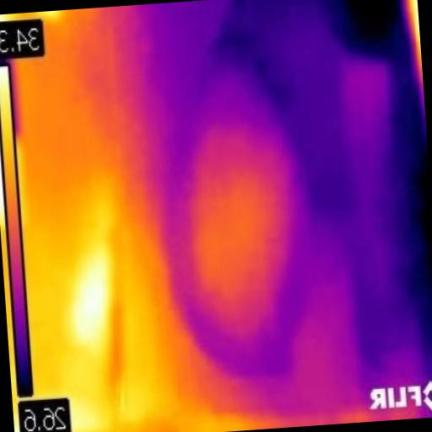mango: (168, 41, 318, 374)
